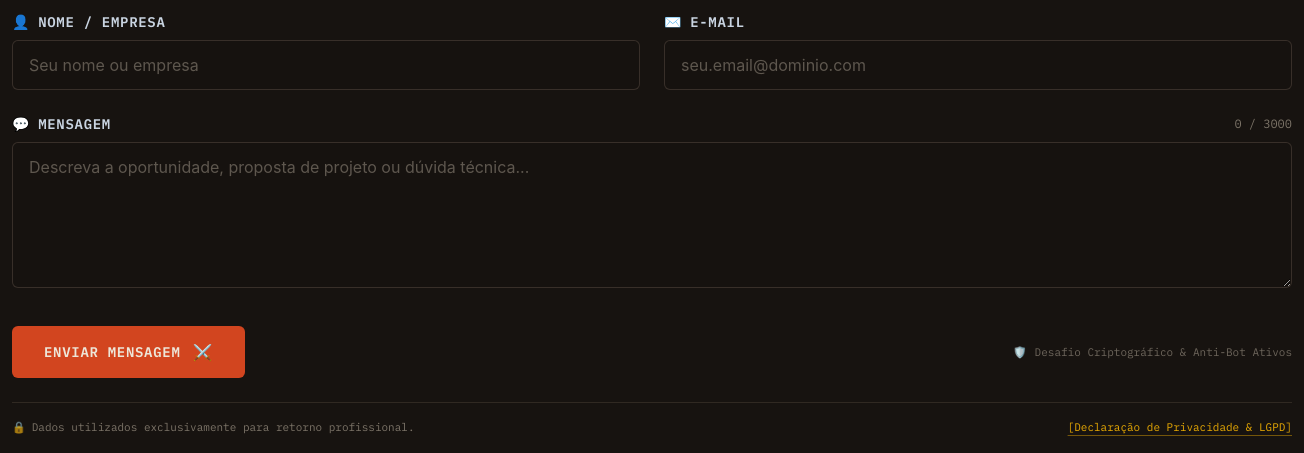
Test: ContactForm › atualiza o contador de caracteres dinamicamente conforme o usuário digita
Replace the text in the text box labelled "💬 Mensagem" with "Testando a mensagem". click: x=652, y=215
box: [12,142,1292,288]
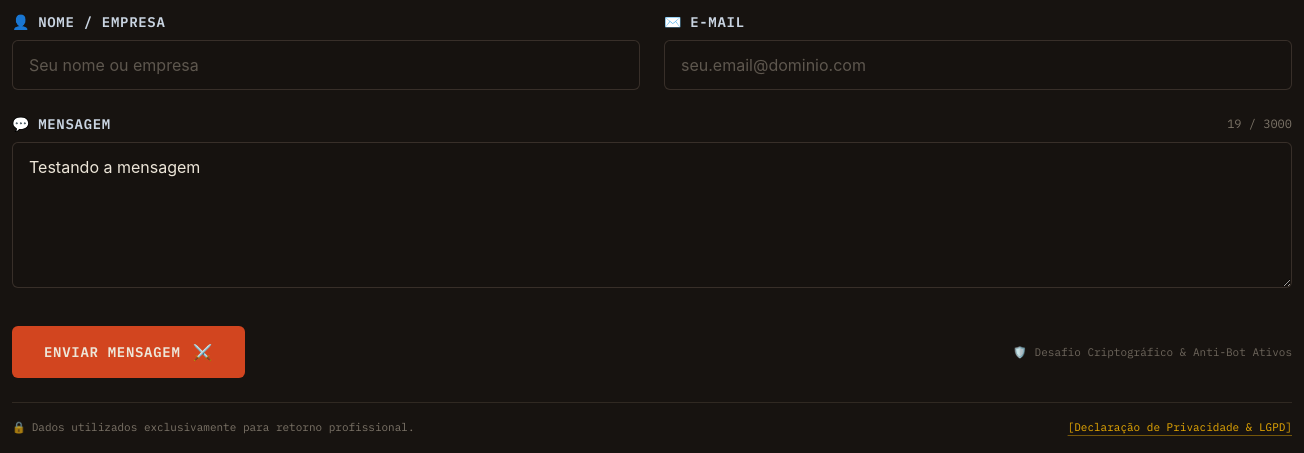
Result: the text "19 / 3000" is shown at [1227,116,1292,132]
